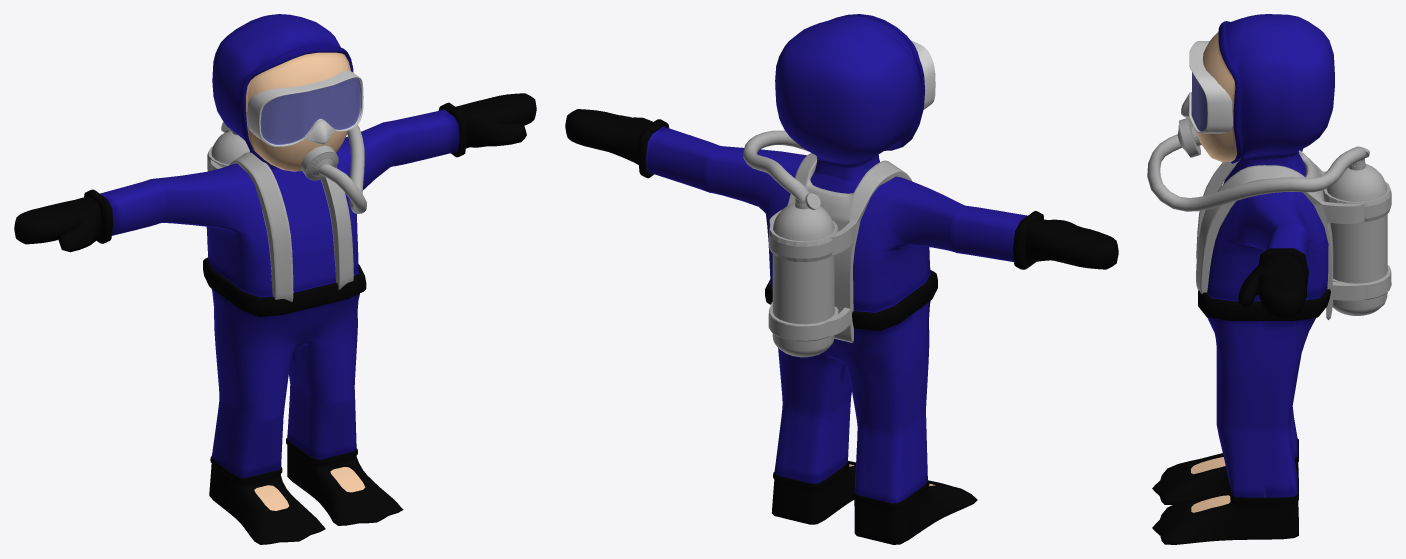
Rendered from ModBuzoFinal.fbx.
3 views of the same model, side by side, from view 1: azimuth 30°, elevation 25°; view 2: azimuth 150°, elevation 25°; view 3: azimuth 270°, elevation 25° (orthographic). The views are drawn at different scales.
Parts seen in each view (by area): view 1: Mod_Cuerpo1, Mod_Gafas, ModMochila, ModManguera, Mod_Tanque, Mod_Regulador; view 2: Mod_Cuerpo1, Mod_Tanque, ModMochila, ModManguera, Mod_Gafas; view 3: Mod_Cuerpo1, Mod_Tanque, ModMochila, ModManguera, Mod_Gafas, Mod_Regulador.
Boxes of the visible parts, x1,y1,x2,y2 form: Mod_Cuerpo1: [14, 14, 536, 544]; Mod_Gafas: [247, 70, 363, 146]; ModMochila: [210, 152, 353, 302]; ModManguera: [319, 125, 366, 213]; Mod_Tanque: [207, 131, 249, 244]; Mod_Regulador: [301, 145, 338, 180]; Mod_Cuerpo1: [565, 14, 1118, 544]; Mod_Tanque: [768, 198, 838, 357]; ModMochila: [769, 153, 912, 342]; ModManguera: [743, 130, 809, 200]; Mod_Gafas: [911, 40, 935, 109]; Mod_Cuerpo1: [1152, 14, 1334, 544]; Mod_Tanque: [1323, 159, 1391, 315]; ModMochila: [1196, 150, 1365, 319]; ModManguera: [1147, 134, 1366, 211]; Mod_Gafas: [1181, 41, 1232, 133]; Mod_Regulador: [1177, 118, 1201, 157].
Bounding box in the file's own units: 10.89 × 9.42 × 4.28.
